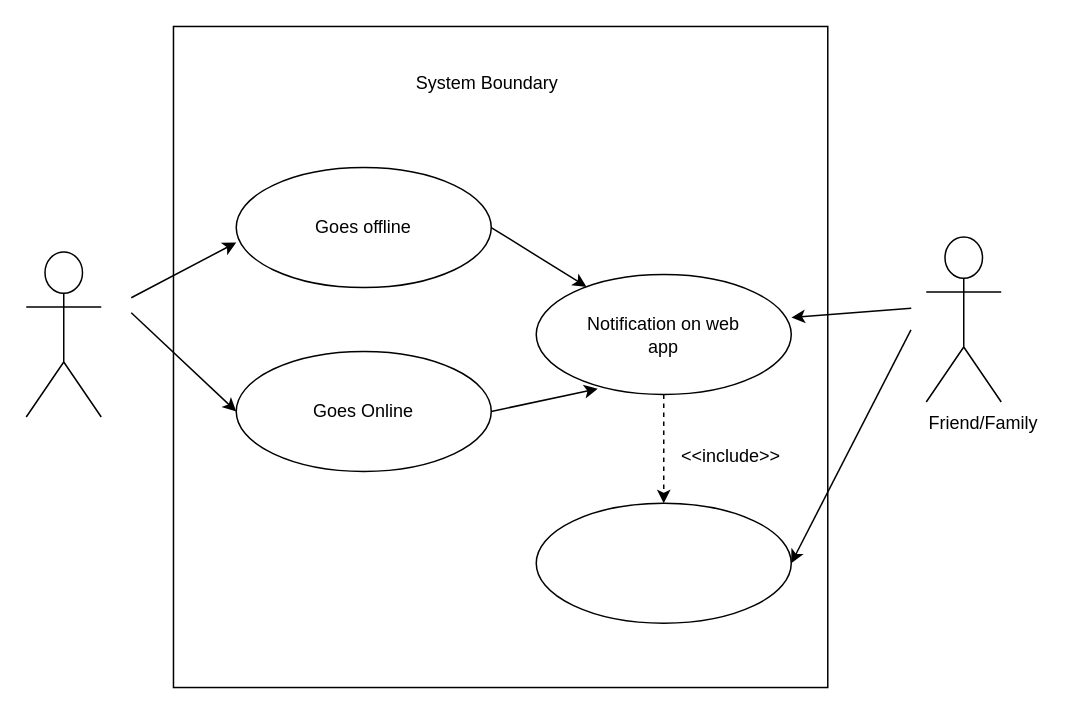
This 1065x714 diagram has some shape labels left out. Here are the shapes that lost their labels. From the top down, the centre of each, then its label:
At pixel 63 333: "User".
At pixel 663 562: "Display notification on device".
